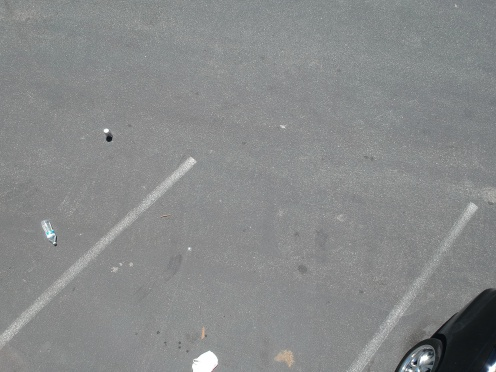bottle: (38, 217, 62, 249)
can: (99, 126, 116, 143)
plastic bag: (180, 347, 221, 372)
